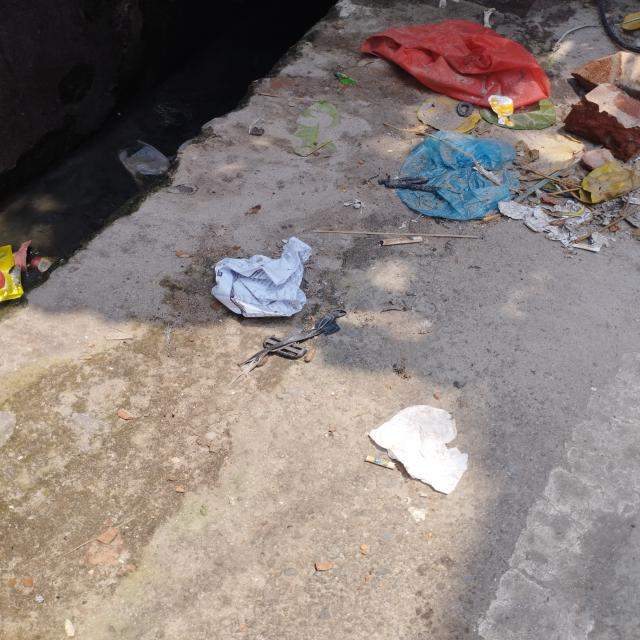paper: (368, 400, 470, 495), (206, 237, 314, 319)
